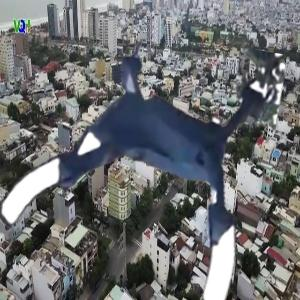drone: (5, 34, 271, 300)
